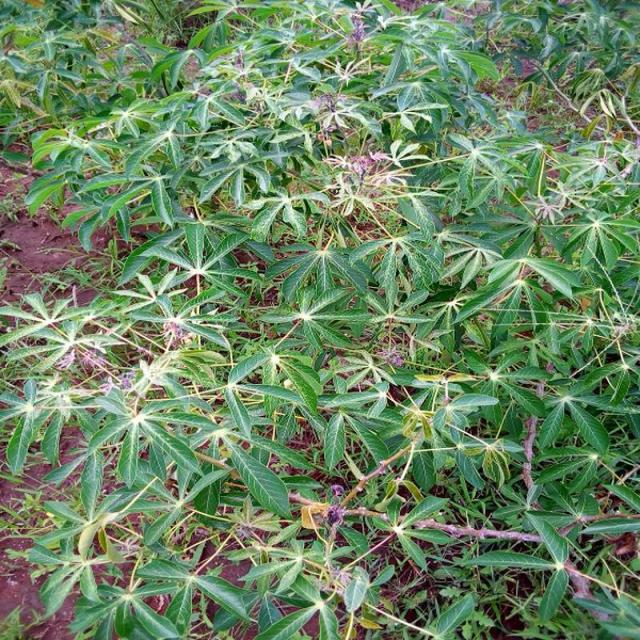cassava leaf: (2, 1, 640, 638), (226, 436, 294, 520)
